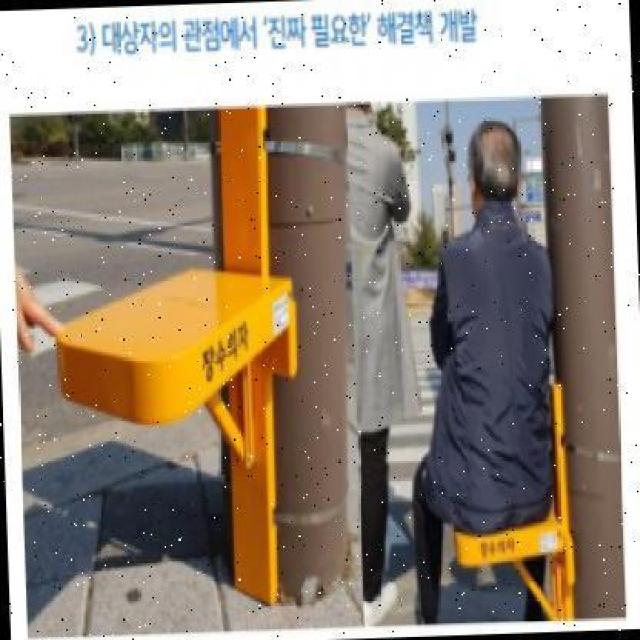-: (400, 119, 565, 635)
